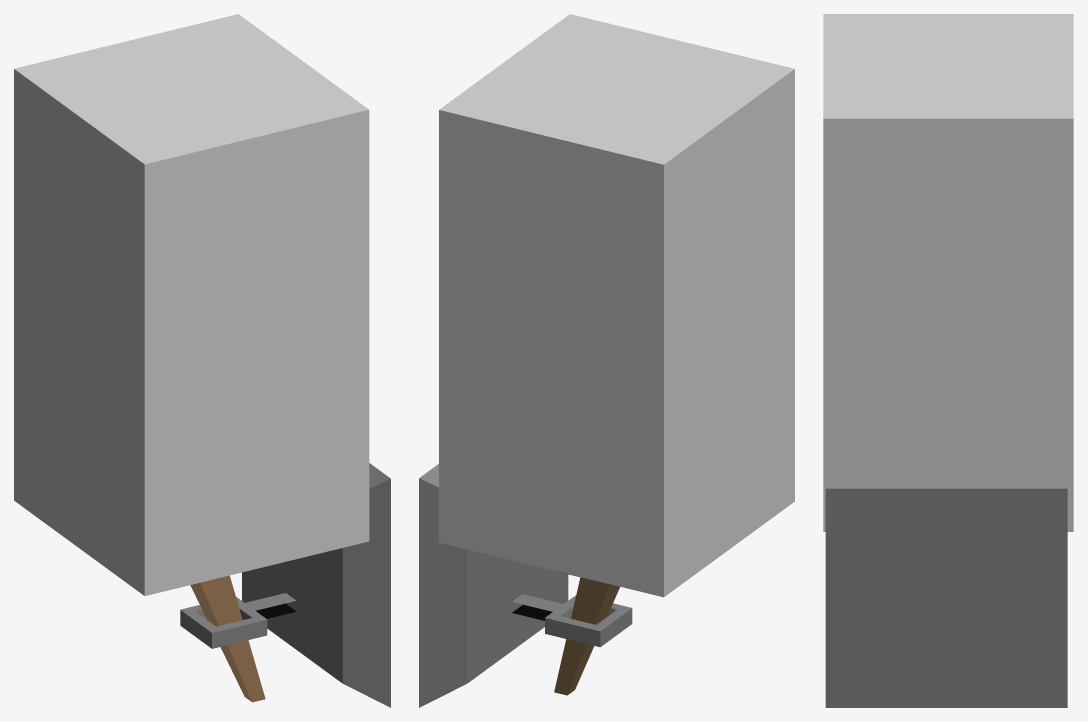
Rendered from Torch_try_1.fbx.
3 views of the same model, side by side, from view 1: azimuth 30°, elevation 25°; view 2: azimuth 150°, elevation 25°; view 3: azimuth 270°, elevation 25° (orthographic). The views are drawn at different scales.
Visible parts, largest first — view 1: Smoke Domain, Cylinder; view 2: Smoke Domain, Cylinder; view 3: Smoke Domain, Cylinder.
Part boxes in pixels (<box>): Smoke Domain: <box>14,14,369,595</box>; Cylinder: <box>180,463,390,707</box>; Smoke Domain: <box>439,14,794,597</box>; Cylinder: <box>419,464,632,707</box>; Smoke Domain: <box>823,14,1073,531</box>; Cylinder: <box>825,488,1067,707</box>.
Size of the model in its own units: 162 by 387 by 148.
